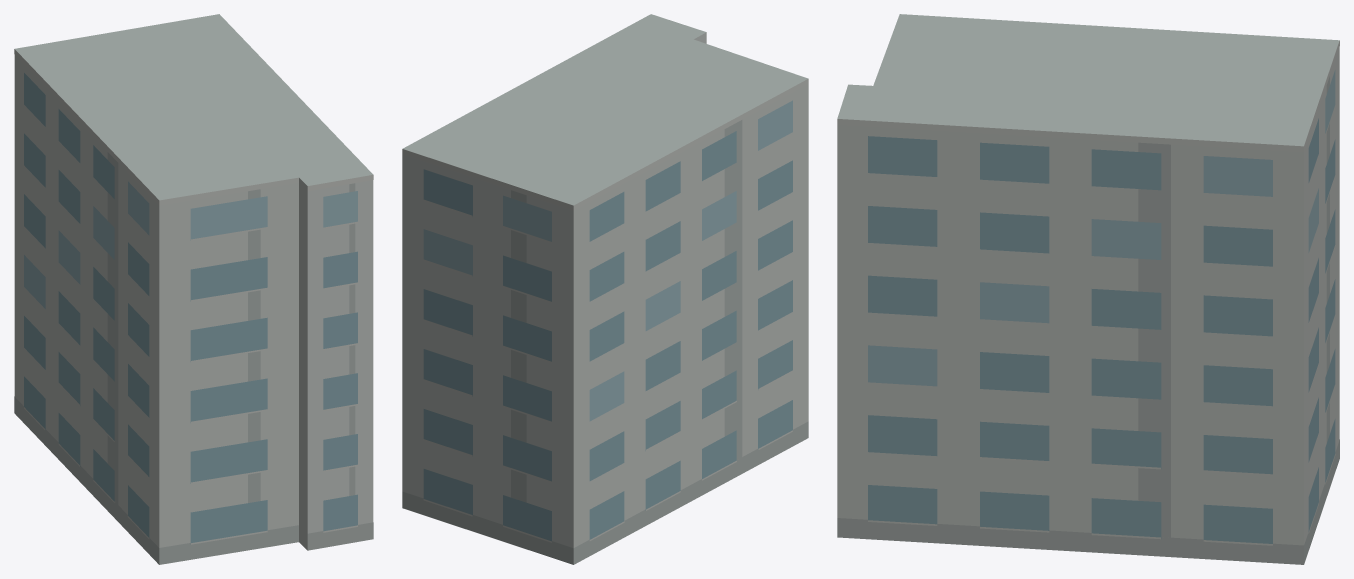
Rendered from survey-upis-32801195.glb.
3 renders of one model, left to right at view 1: azimuth 30°, elevation 25°; view 2: azimuth 150°, elevation 25°; view 3: azimuth 270°, elevation 25°, orthographic. The views are drawn at different scales.
Parts seen in each view (by area): view 1: survey-upis-32801195.tmp; view 2: survey-upis-32801195.tmp; view 3: survey-upis-32801195.tmp.
Part boxes in pixels (x1=…): survey-upis-32801195.tmp: x1=14, y1=14, x2=373, y2=564; survey-upis-32801195.tmp: x1=402, y1=14, x2=808, y2=564; survey-upis-32801195.tmp: x1=837, y1=14, x2=1339, y2=564.
Bounding box in the file's own units: 11.36 × 16.75 × 18.23.
